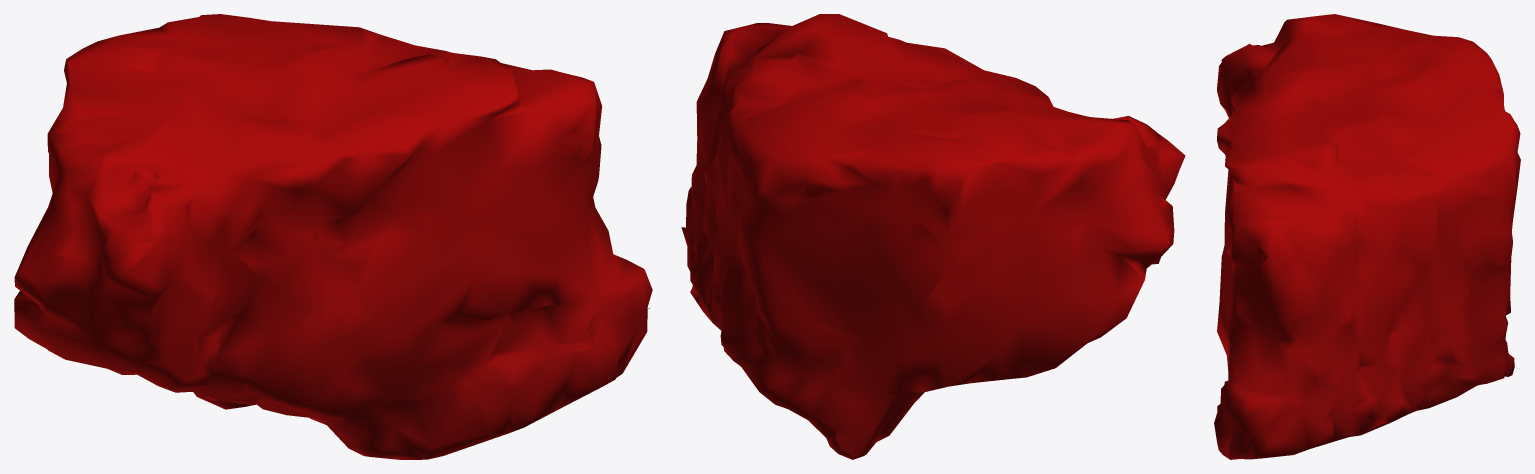
File: mossrock_b_13.glb
3 views of the same model, side by side, from view 1: azimuth 30°, elevation 25°; view 2: azimuth 150°, elevation 25°; view 3: azimuth 270°, elevation 25° (orthographic). The views are drawn at different scales.
Parts seen in each view (by area): view 1: LOD0; view 2: LOD0; view 3: LOD0.
Part boxes in pixels (x1=…): LOD0: x1=14, y1=14, x2=652, y2=459; LOD0: x1=681, y1=14, x2=1185, y2=459; LOD0: x1=1214, y1=14, x2=1520, y2=459.
Size of what is drawn, in the model's own units: 2.09 by 1.26 by 1.14.
